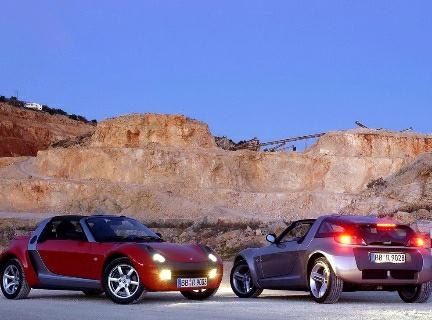smart-roadster: (3, 212, 218, 308), (227, 209, 431, 306)
